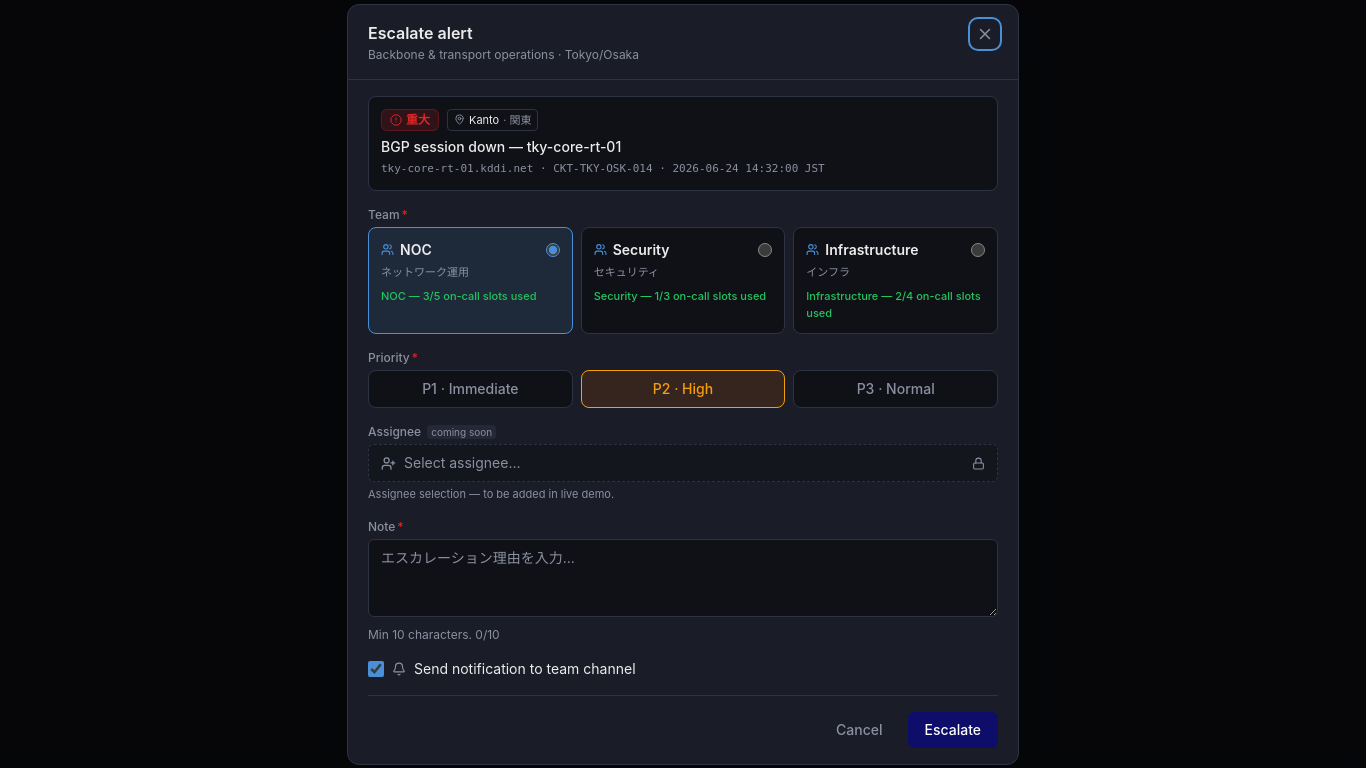
Test: EscalateModal › shows a validation error and does not submit when the note is too short
The image size is (1366, 768).
Step 1. Click the button "Escalate" → x=953, y=730, box x1=908 y1=712 x2=998 y2=748
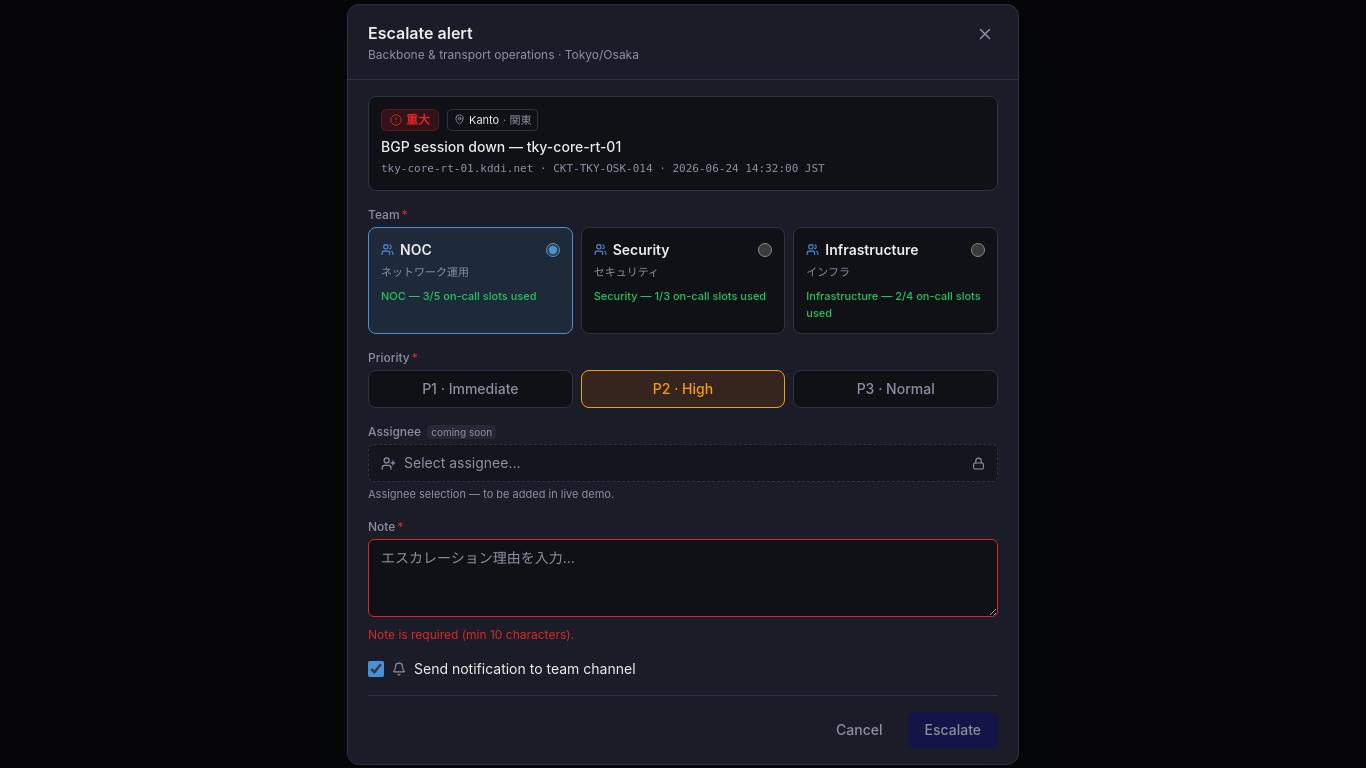
Expected: the text "Note is required (min 10 characters)." is shown, x1=368 y1=626 x2=574 y2=642
